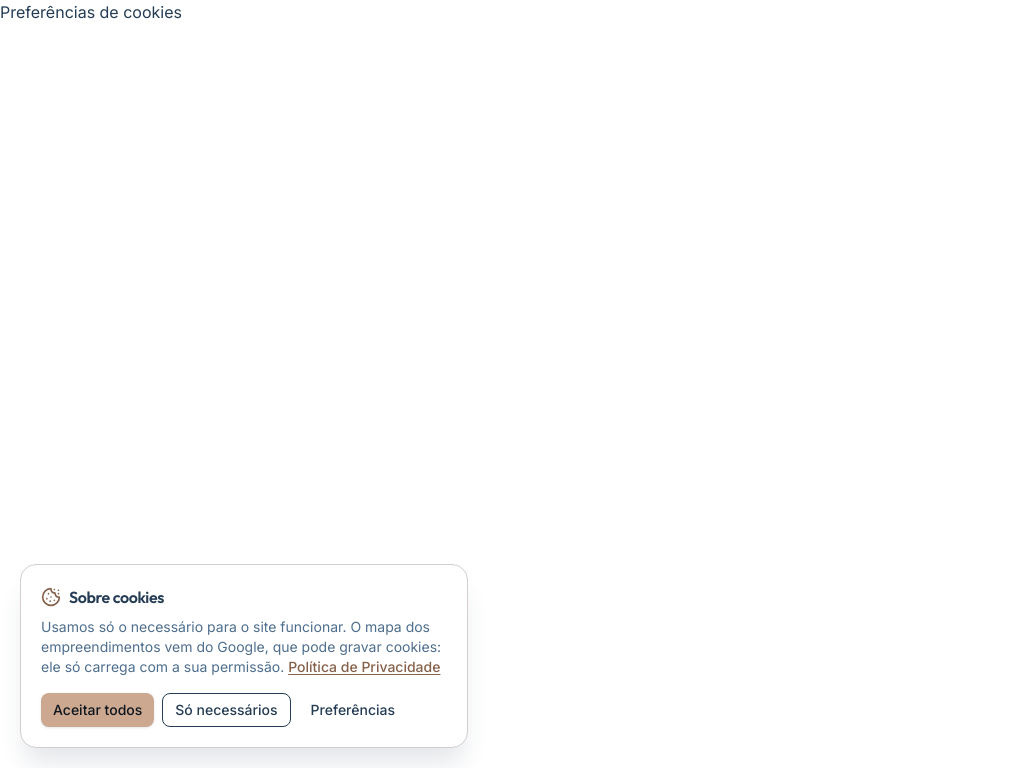
it: CookieBanner › preferências: necessários sempre ligados; mapas é opcional e fica salvo
Click the button "Preferências". click: click(353, 710)
box: [299,693,407,727]
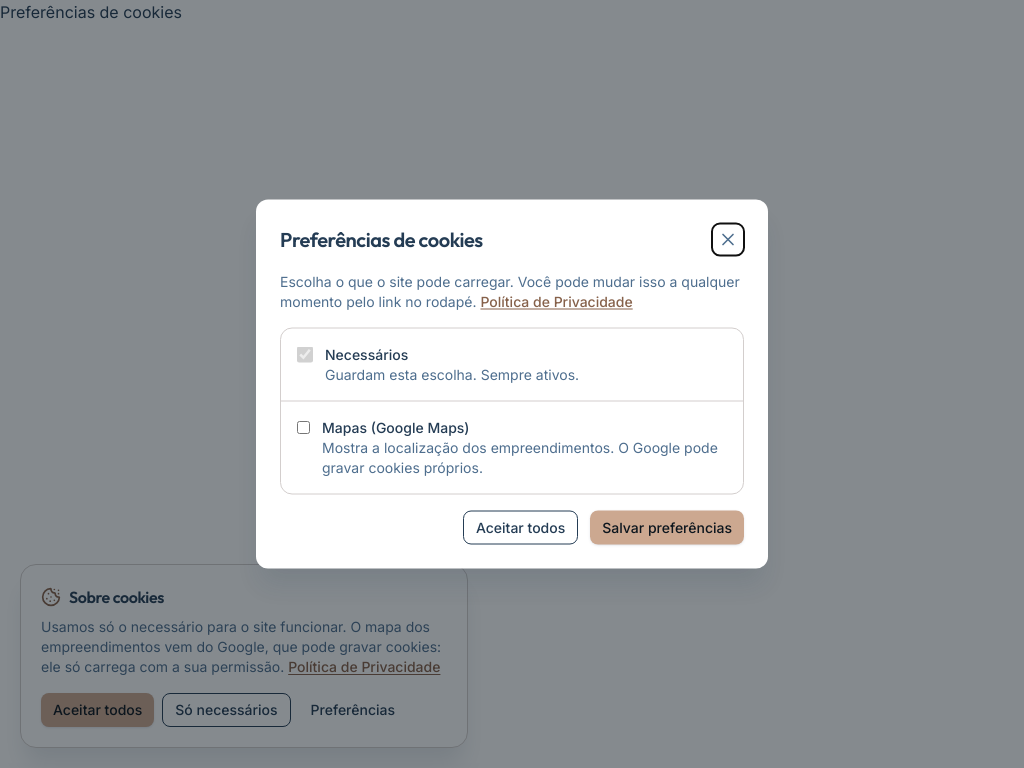
Check: the checkbox labelled "Necessários Guardam esta escolha. Sempre ativos." is disabled, box [297,346,313,362]
Check: the checkbox labelled "Mapas" is not checked
Click the checkbox labelled "Mapas". click: click(304, 428)
box: [297,420,310,436]
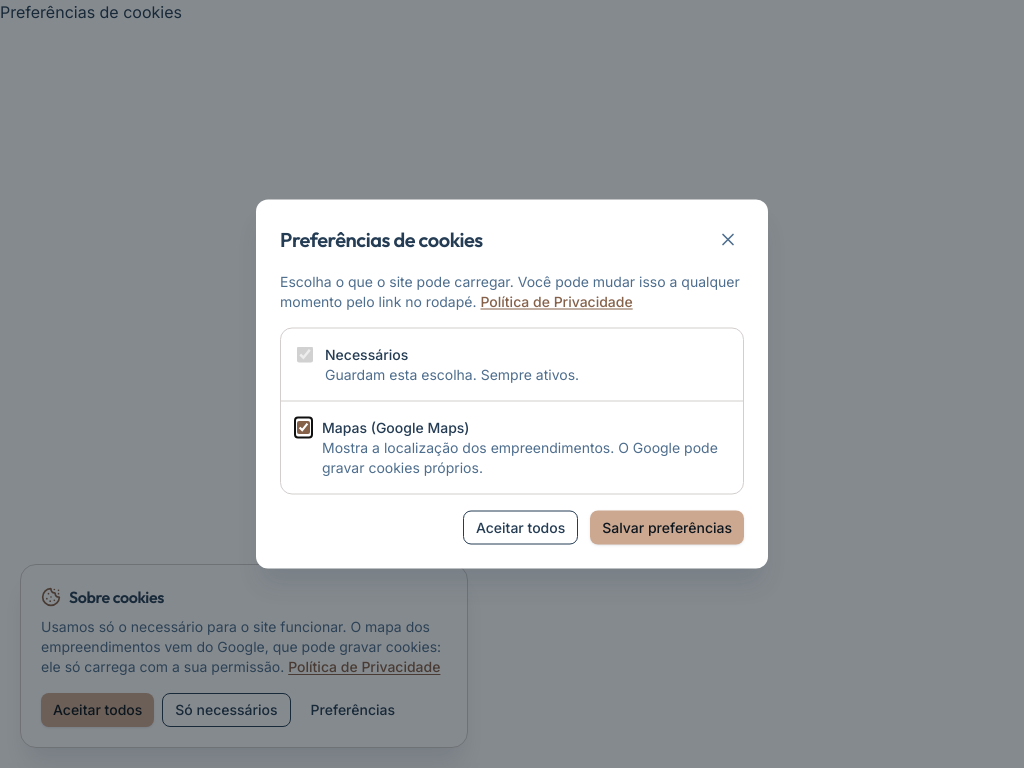
Click the button "Salvar preferências". click: click(667, 528)
box: [590,510,744,544]
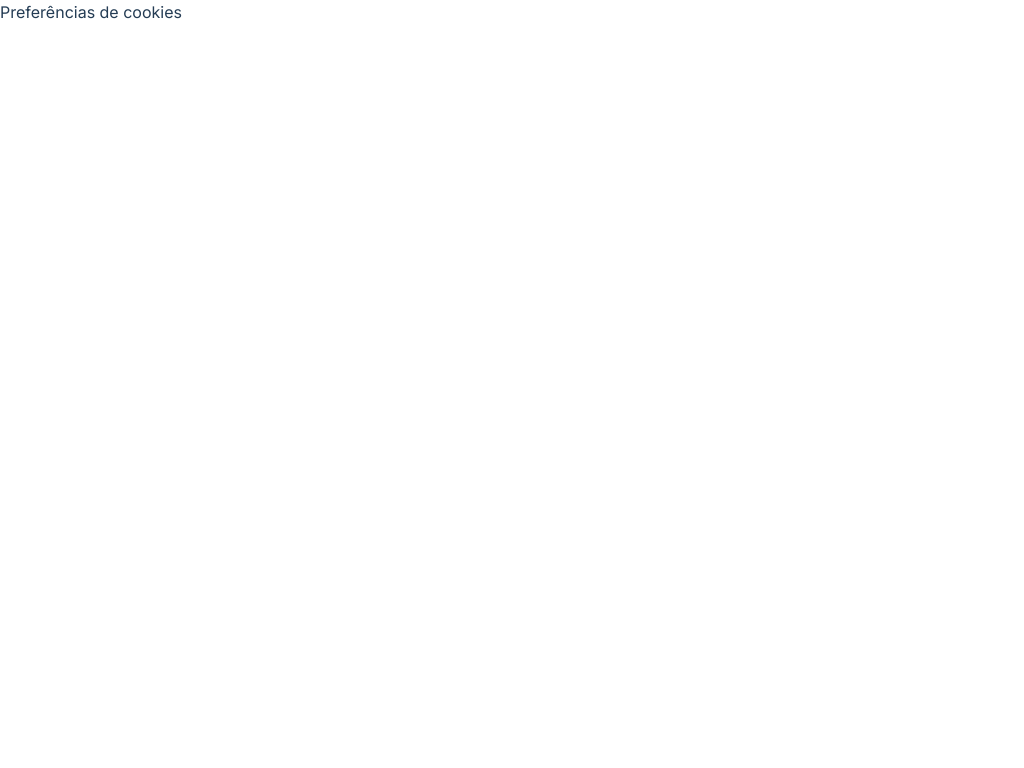
Check: the dialog is gone
